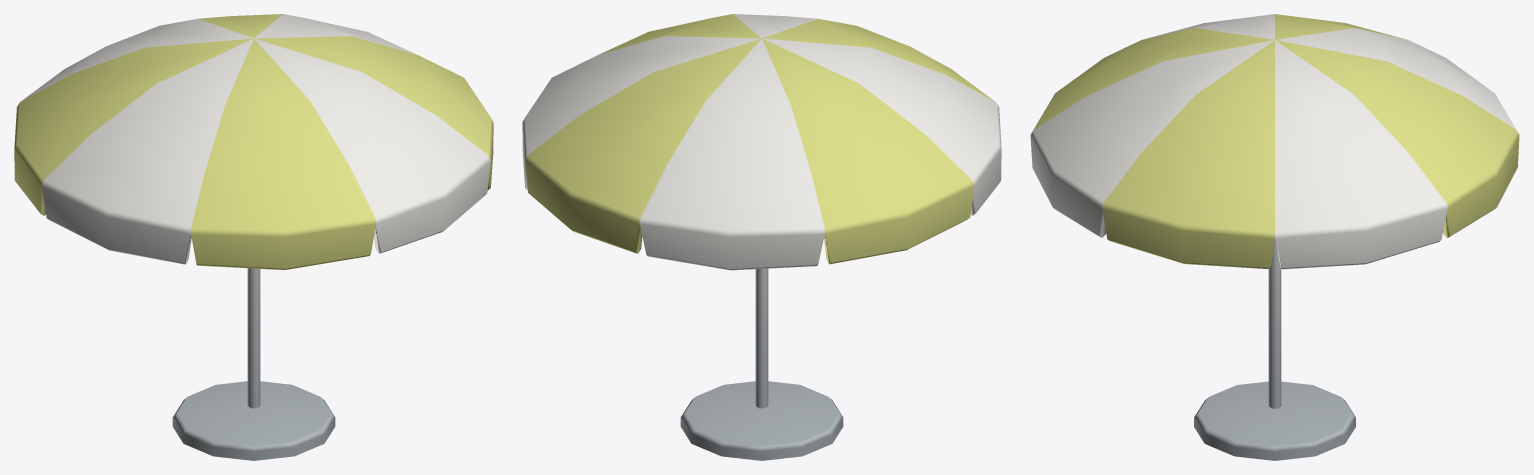
The model's file is Umbrella_Yellow.fbx.
3 renders of one model, left to right at view 1: azimuth 30°, elevation 25°; view 2: azimuth 150°, elevation 25°; view 3: azimuth 270°, elevation 25°, orthographic.
Visible parts, largest first — view 1: Umbrella_Yellow; view 2: Umbrella_Yellow; view 3: Umbrella_Yellow.
Boxes of the visible parts, bbox=[...] form: Umbrella_Yellow: bbox=[14, 14, 493, 460]; Umbrella_Yellow: bbox=[522, 14, 1001, 460]; Umbrella_Yellow: bbox=[1030, 14, 1519, 460].
Size of the model in its own units: 403 by 352 by 403.
